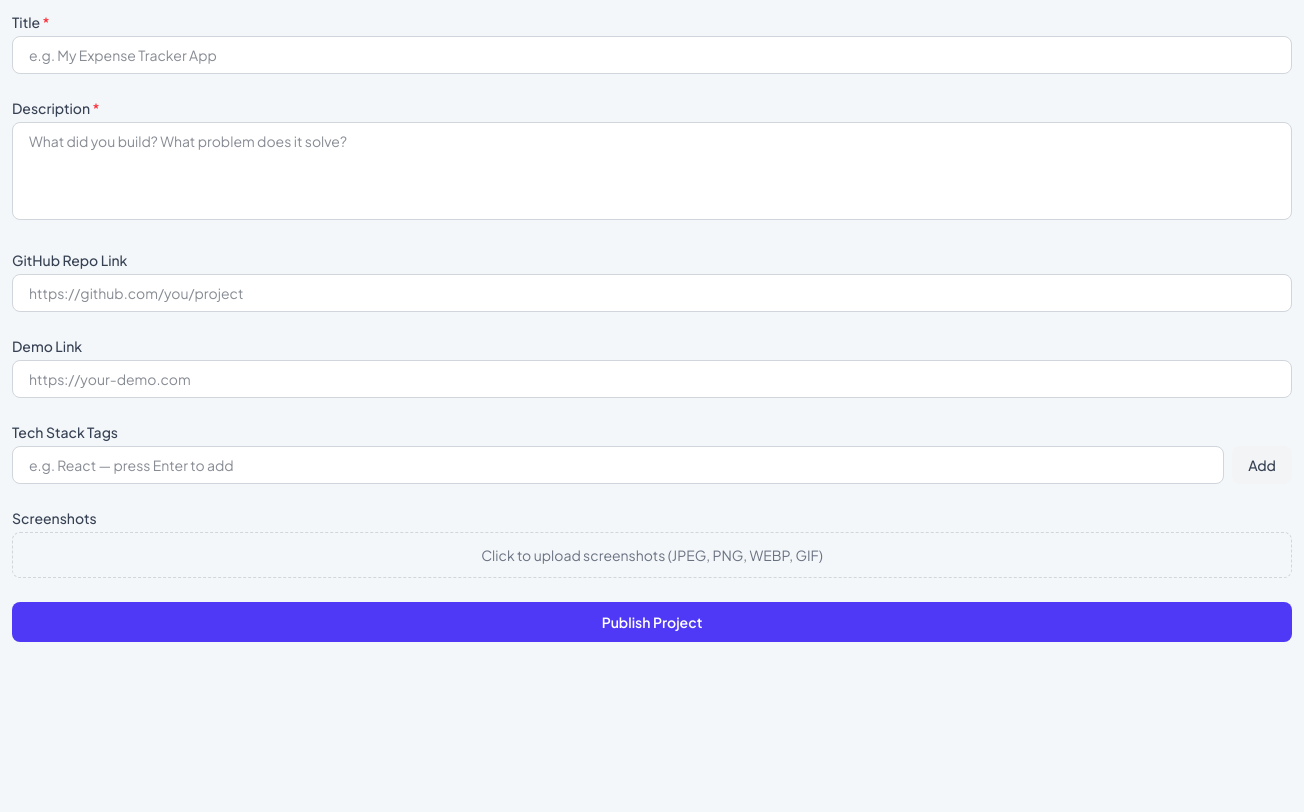
Test: PostForm › validation › shows error when title is empty on submit
Click the button "Publish Project" at (652, 622), box [12,602,1292,642]
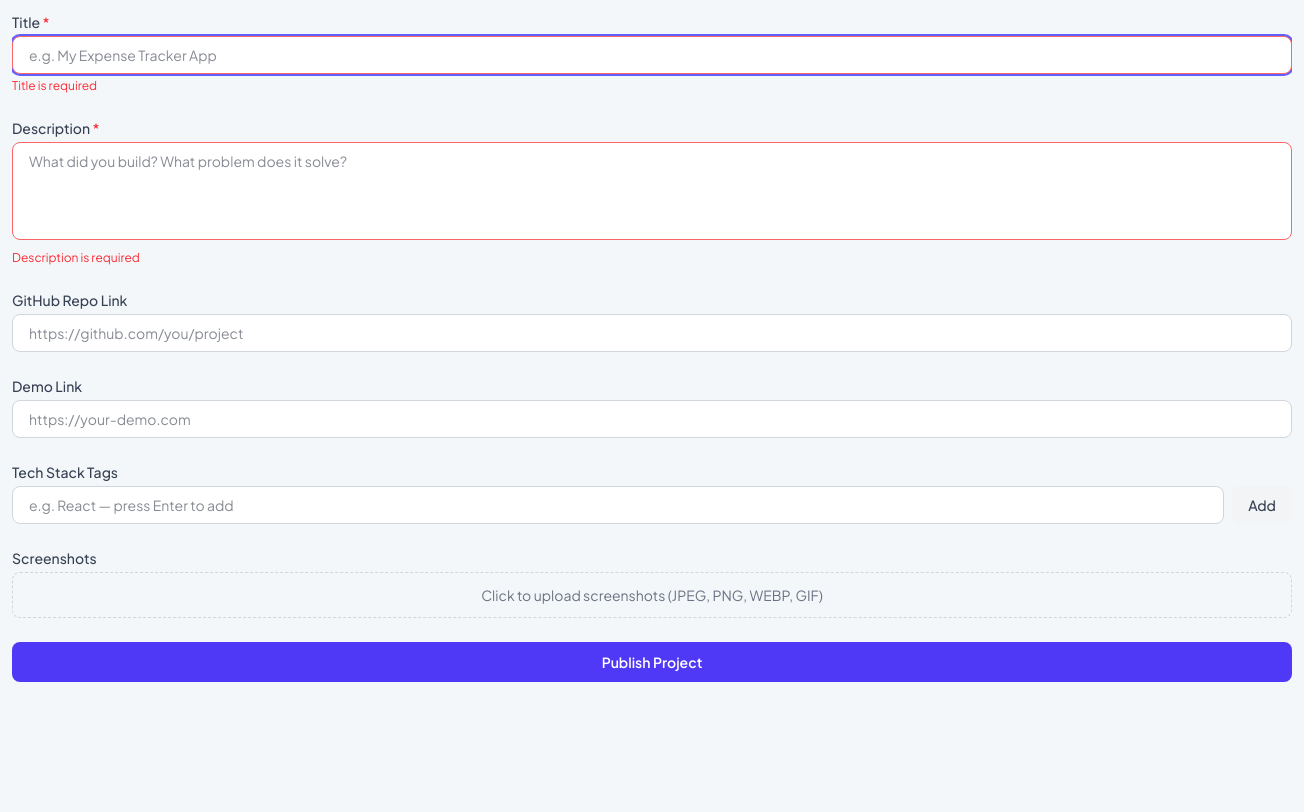
Expected: the text "Title is required" is shown, [12,78,97,93]
